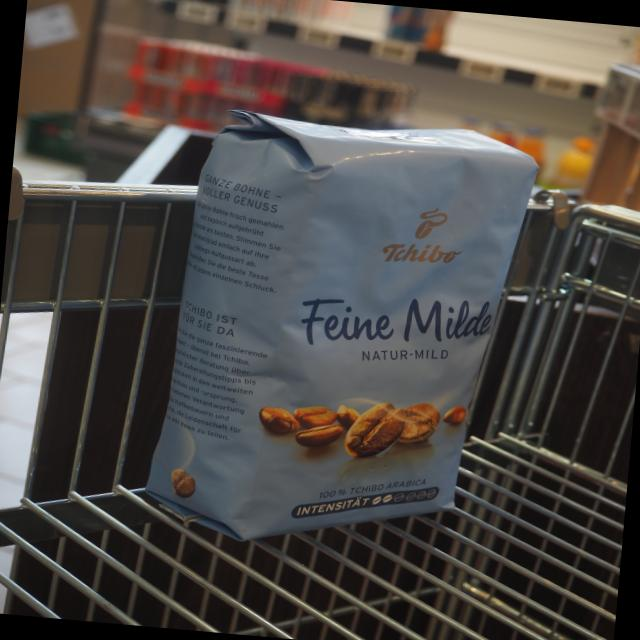FM Bohne: (136, 97, 549, 569)
